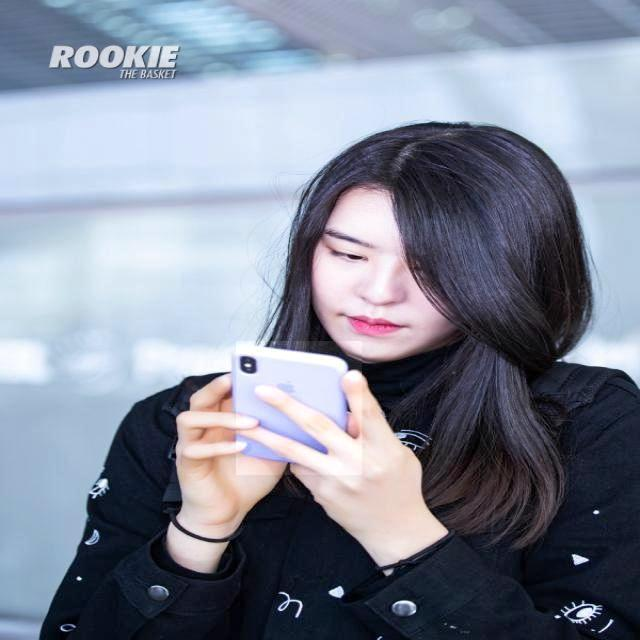lens: (239, 352, 258, 377)
phone: (236, 342, 351, 465)
